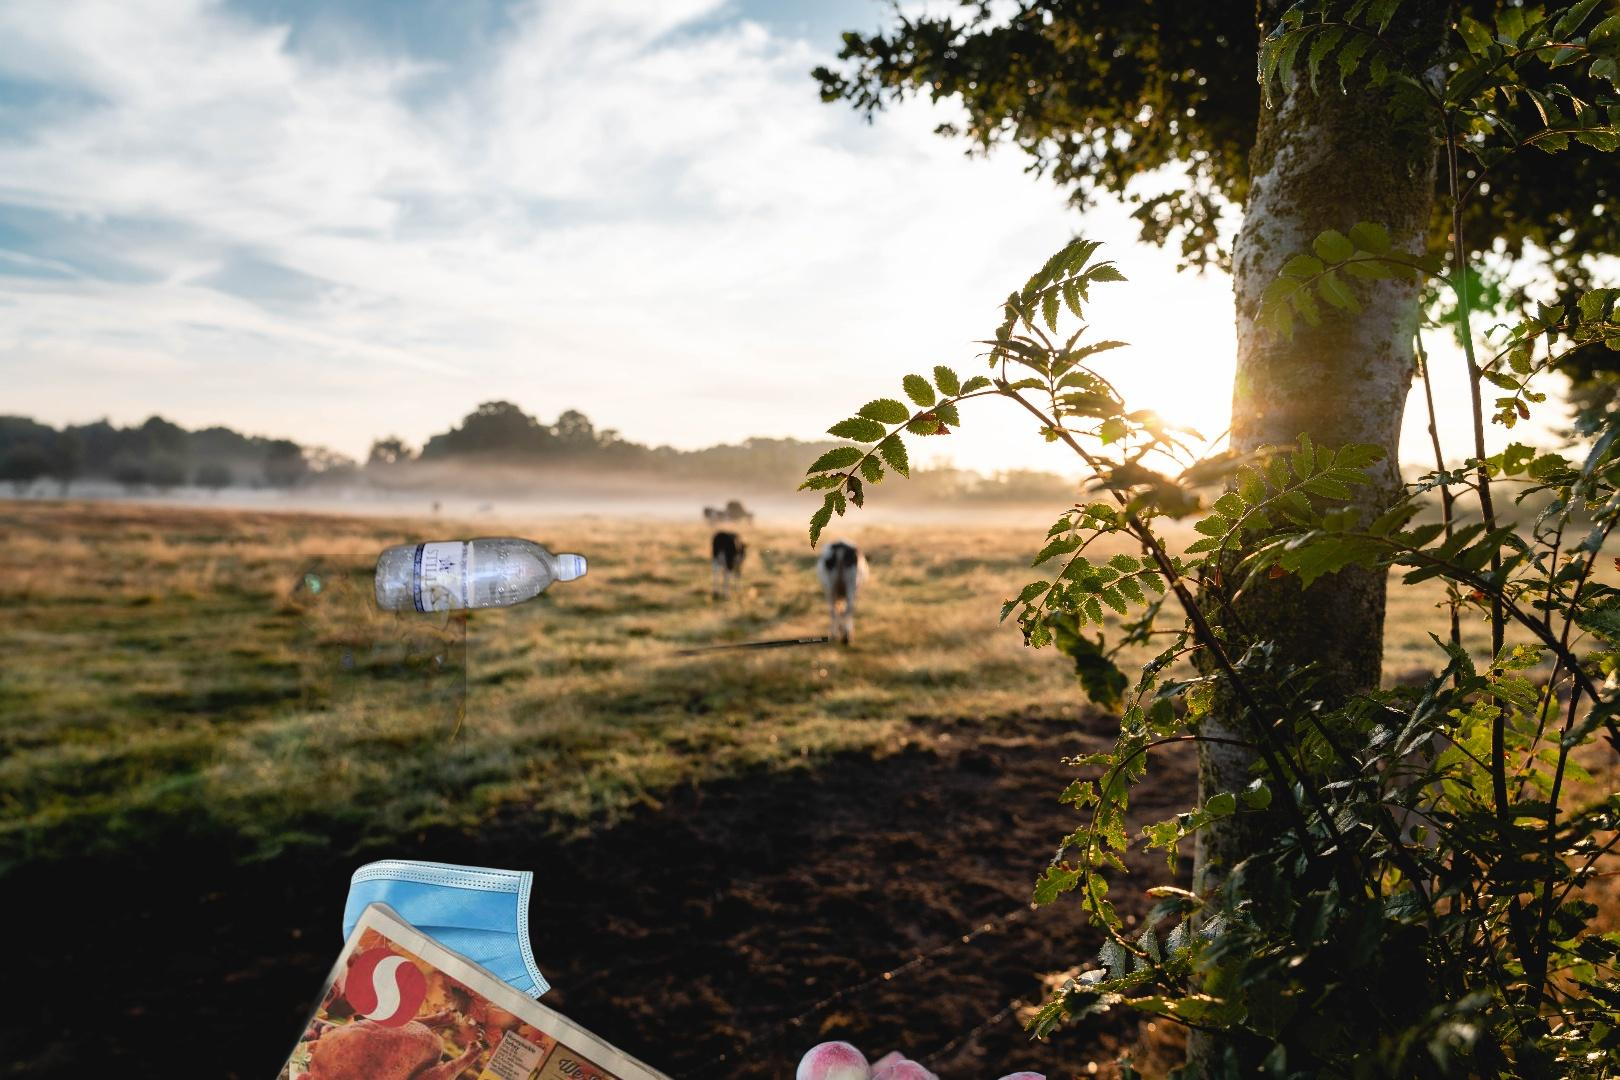biological: (283, 554, 466, 829), (769, 1040, 1046, 1080)
paper: (206, 898, 718, 1080)
plastic-bottles: (357, 934, 869, 1080), (370, 530, 828, 669)
trash: (342, 856, 591, 1040)
